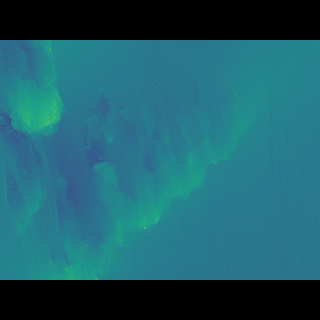Loch: (0, 78, 263, 252)
